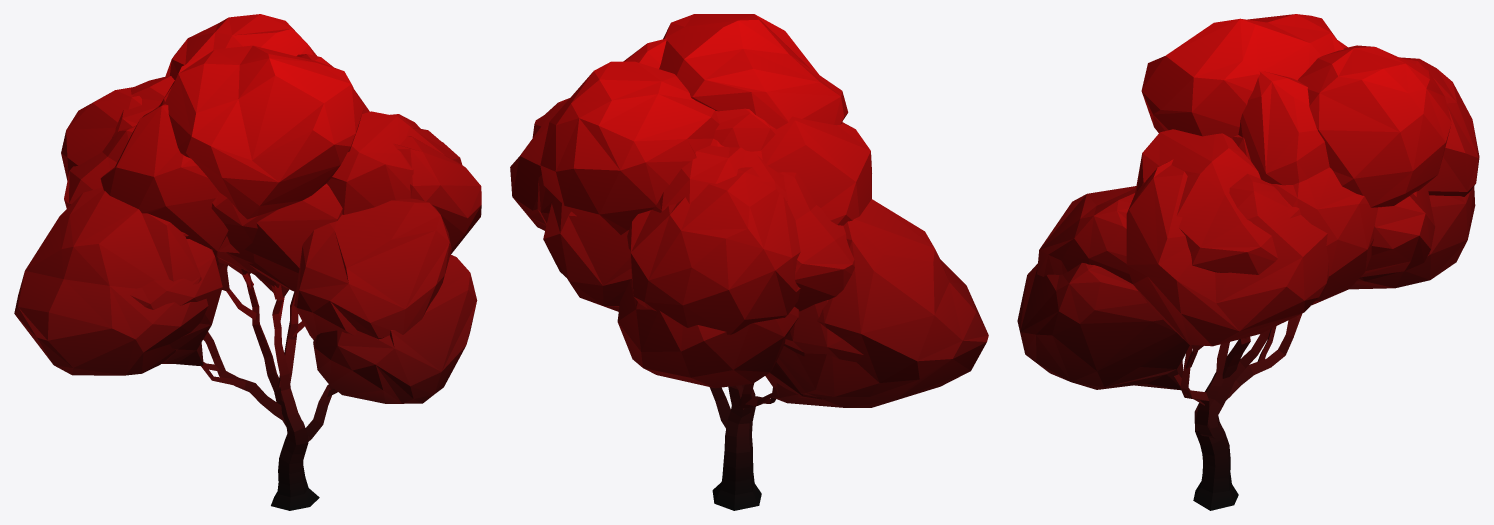
The model's file is TreeMaple03.fbx.
3 views of the same model, side by side, from view 1: azimuth 30°, elevation 25°; view 2: azimuth 150°, elevation 25°; view 3: azimuth 270°, elevation 25° (orthographic). The views are drawn at different scales.
Parts seen in each view (by area): view 1: TreeMaple03_LOD0; view 2: TreeMaple03_LOD0; view 3: TreeMaple03_LOD0.
Part boxes in pixels (x1=…): TreeMaple03_LOD0: x1=14, y1=14, x2=481, y2=510; TreeMaple03_LOD0: x1=510, y1=14, x2=988, y2=510; TreeMaple03_LOD0: x1=1017, y1=14, x2=1479, y2=510.
Size of what is drawn, in the model's own units: 730 by 738 by 653.
